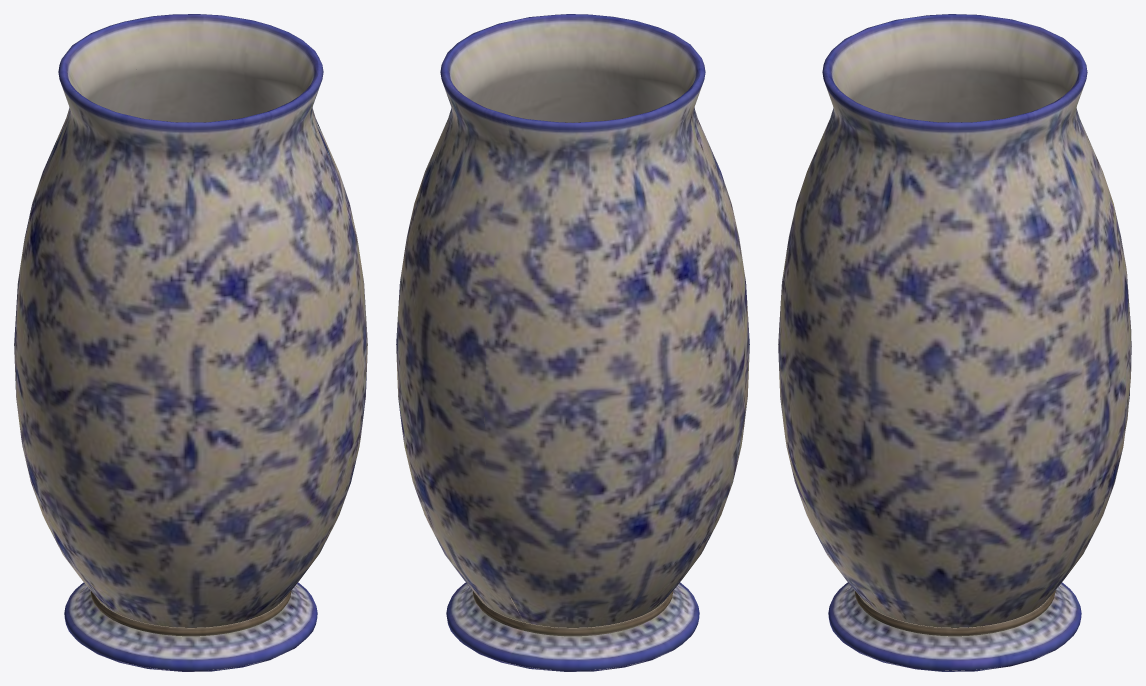
File: antique_ceramic_vase_01.glb
The picture shows the model from 3 angles, left to right: view 1: azimuth 30°, elevation 25°; view 2: azimuth 150°, elevation 25°; view 3: azimuth 270°, elevation 25°; orthographic projection.
Parts seen in each view (by area): view 1: antique_ceramic_vase_01; view 2: antique_ceramic_vase_01; view 3: antique_ceramic_vase_01.
Part boxes in pixels (box(x1,y1,x2,y2)): antique_ceramic_vase_01: box(14, 14, 367, 671); antique_ceramic_vase_01: box(396, 14, 749, 671); antique_ceramic_vase_01: box(778, 14, 1131, 671).
Size of the model in its own units: 0.2554 by 0.4397 by 0.2554.
Materials: 1 (1 with a texture image).
